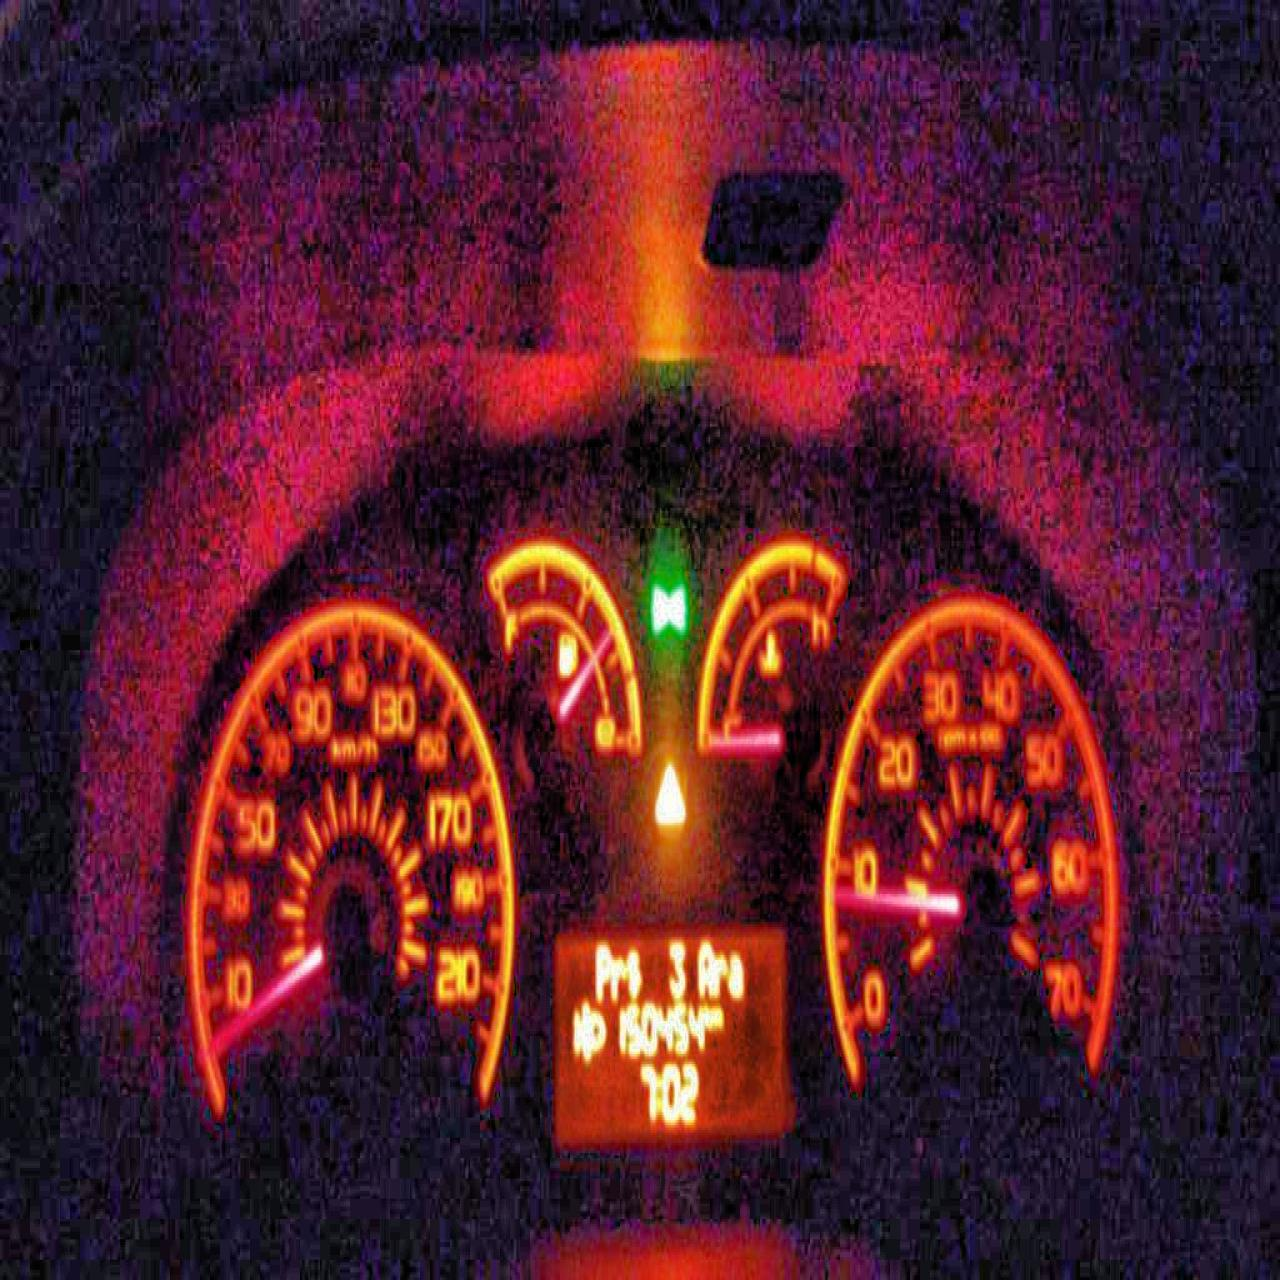0: (660, 1059, 680, 1125), (640, 998, 656, 1057)
1: (570, 1006, 580, 1054), (617, 1003, 625, 1052)
2: (679, 1057, 699, 1125)
3: (666, 935, 686, 998)
4: (656, 998, 672, 1054), (688, 998, 704, 1052)
5: (672, 1001, 688, 1054), (625, 998, 640, 1054)
7: (637, 1059, 655, 1120)
X: (695, 935, 714, 998), (592, 937, 610, 1003), (625, 945, 643, 998), (728, 947, 744, 998), (712, 947, 728, 998), (610, 952, 625, 1001), (712, 1000, 724, 1028), (654, 1069, 660, 1115), (704, 1003, 712, 1029)
odometer: (549, 919, 791, 1148)
